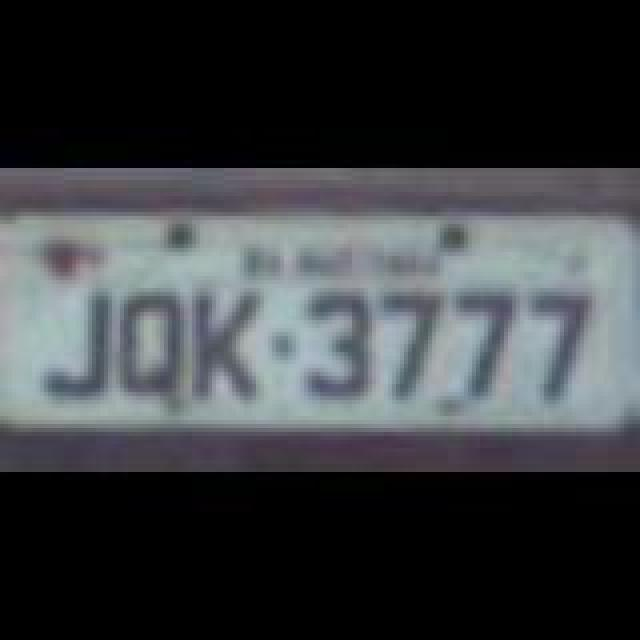3: (302, 286, 370, 402)
7: (528, 288, 592, 400), (458, 292, 518, 404), (382, 292, 434, 404)
J: (46, 292, 114, 404)
K: (188, 292, 260, 404)
Q: (118, 292, 186, 404)
